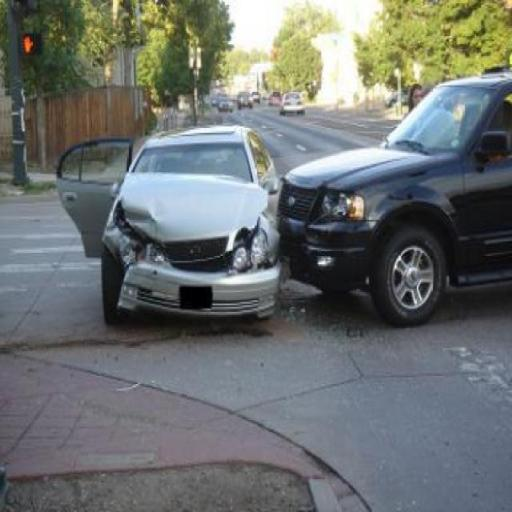小汽车: (281, 90, 307, 120)
小汽车撞小汽车: (112, 65, 509, 319)
